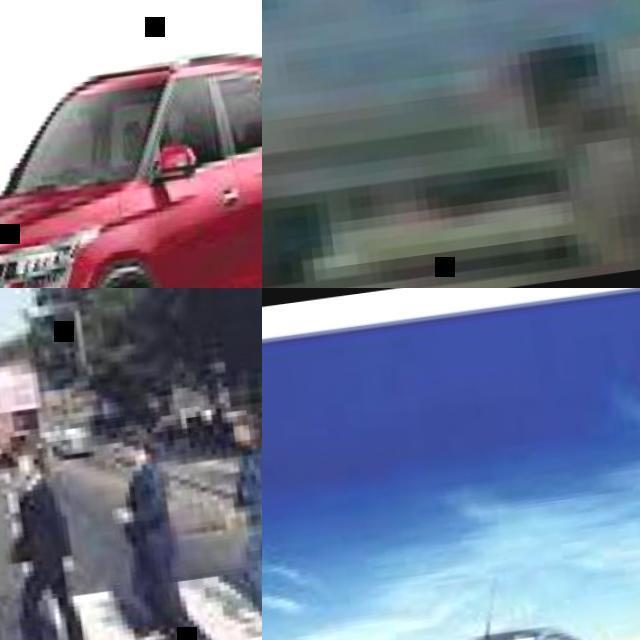car: (0, 26, 269, 295)
